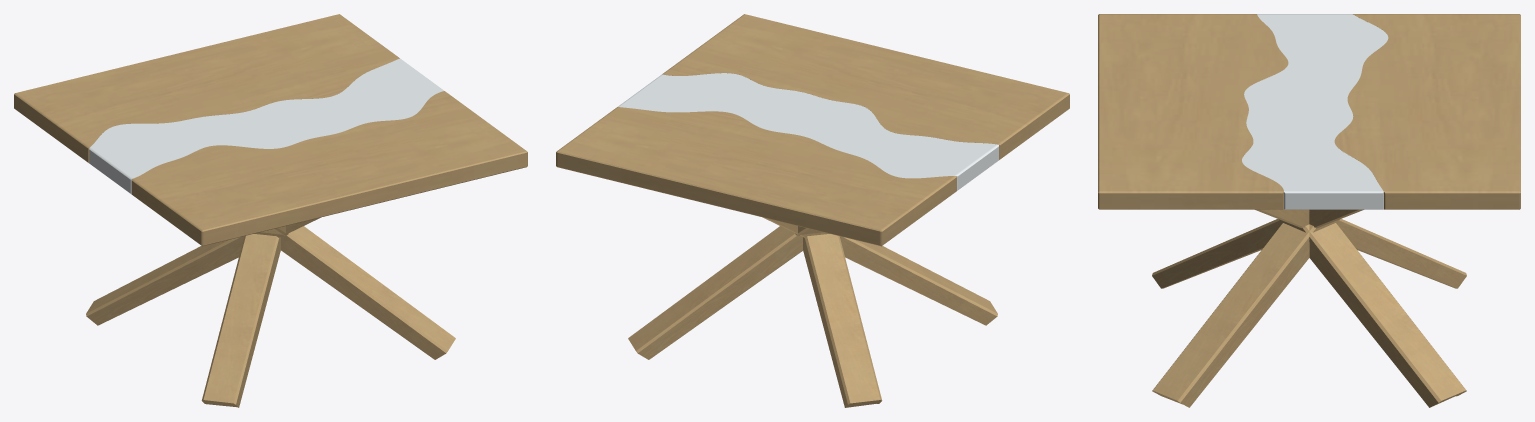
File: square-beech-epoxy-clear.glb
3 views of the same model, side by side, from view 1: azimuth 30°, elevation 25°; view 2: azimuth 150°, elevation 25°; view 3: azimuth 270°, elevation 25° (orthographic). The views are drawn at different scales.
Parts seen in each view (by area): view 1: Wood_Square_EpoxyFar, Wood_Square_EpoxyNear, Base_Square, Resin_Square; view 2: Wood_Square_EpoxyNear, Wood_Square_EpoxyFar, Base_Square, Resin_Square; view 3: Wood_Square_EpoxyFar, Wood_Square_EpoxyNear, Base_Square, Resin_Square.
Boxes of the visible parts, box(x1,y1,x2,y2) form: Wood_Square_EpoxyFar: box(131, 91, 527, 246); Wood_Square_EpoxyNear: box(14, 14, 399, 162); Base_Square: box(86, 217, 455, 407); Resin_Square: box(89, 58, 443, 194); Wood_Square_EpoxyNear: box(556, 107, 956, 246); Wood_Square_EpoxyFar: box(662, 14, 1069, 159); Base_Square: box(628, 217, 997, 407); Resin_Square: box(618, 73, 998, 190); Wood_Square_EpoxyFar: box(1098, 14, 1288, 209); Wood_Square_EpoxyNear: box(1334, 14, 1520, 209); Base_Square: box(1152, 209, 1466, 407); Resin_Square: box(1242, 14, 1388, 209).
Size of the model in its own units: 1.22 by 0.762 by 1.22.
Materials: 2 (1 with a texture image).
